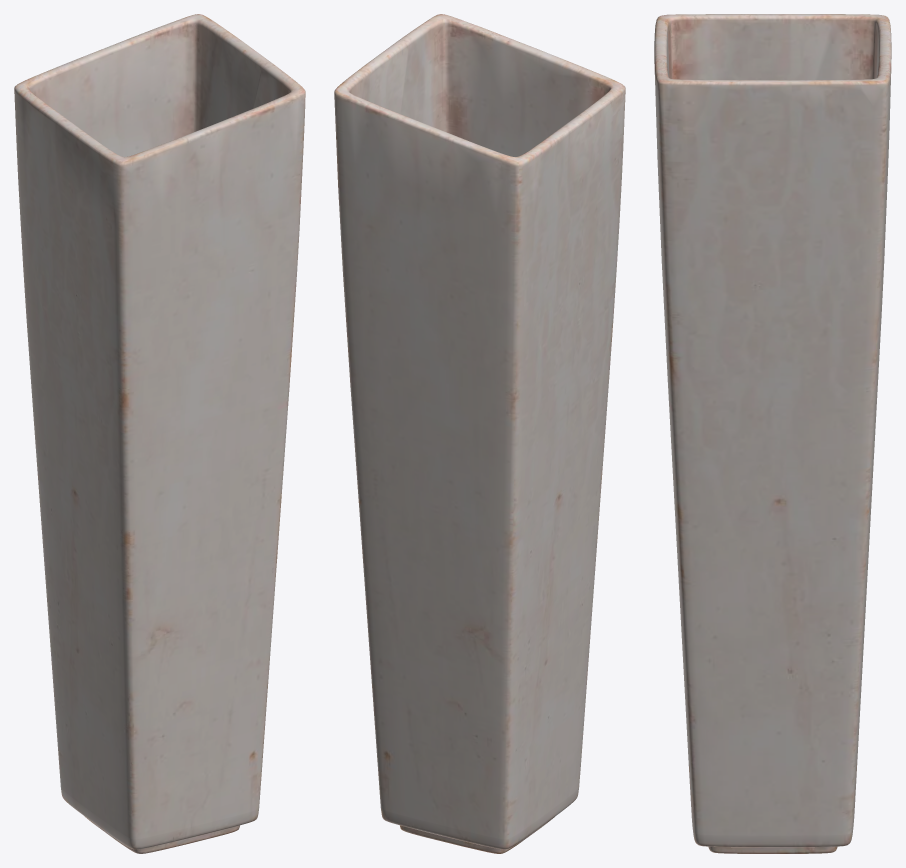
Rendered from vase-bottle-tall.glb.
The picture shows the model from 3 angles, left to right: view 1: azimuth 30°, elevation 25°; view 2: azimuth 150°, elevation 25°; view 3: azimuth 270°, elevation 25°; orthographic projection. The views are drawn at different scales.
Parts seen in each view (by area): view 1: ceramic_vase_03; view 2: ceramic_vase_03; view 3: ceramic_vase_03.
Part boxes in pixels (left/top/right/bottom): ceramic_vase_03: left=14, top=14, right=305, bottom=853; ceramic_vase_03: left=334, top=14, right=625, bottom=853; ceramic_vase_03: left=654, top=14, right=891, bottom=853.
Size of the model in its own units: 0.1122 by 0.4144 by 0.1122.
1 material, 1 textured.
